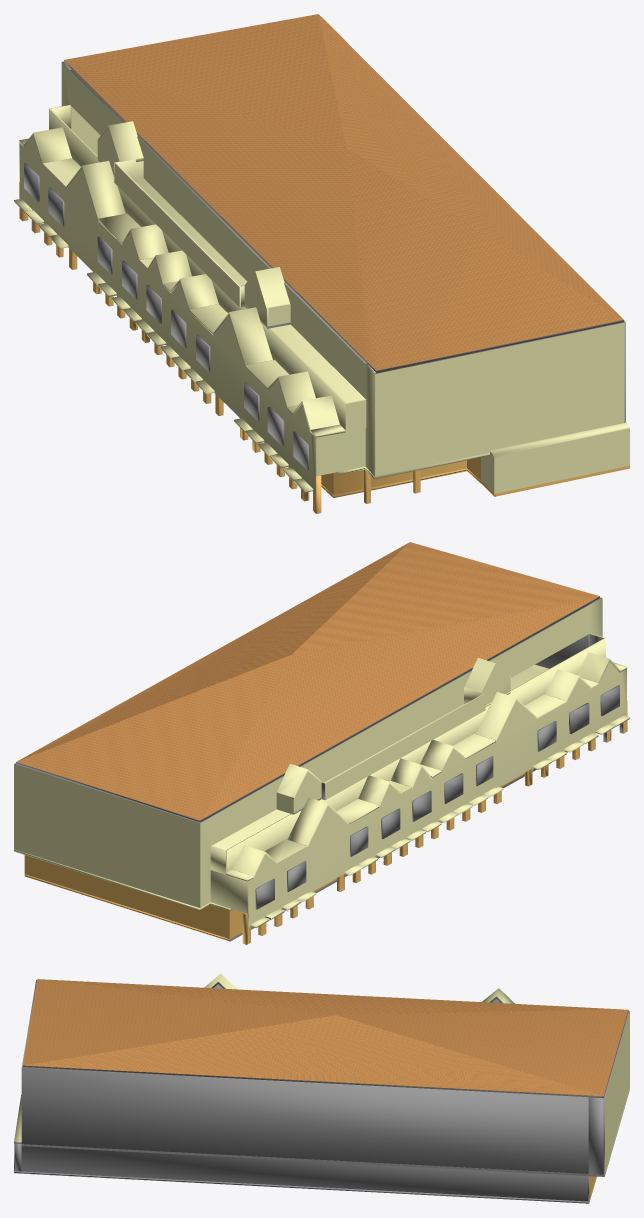
Rendered from mallmalioboro.glb.
3 renders of one model, top to bottom at view 1: azimuth 30°, elevation 25°; view 2: azimuth 150°, elevation 25°; view 3: azimuth 270°, elevation 25°, orthographic. The views are drawn at different scales.
Visible parts, largest first — view 1: Mesh25 Generic_Roof___300mm175_1 Group1 Model, Mesh119 Generic___200mm37_1 Group1 Model, Mesh27 Generic_Roof___300mm175_1 Group1 Model, Mesh169 Generic___200mm12_1 Group1 Model, Mesh75 Generic___200mm42_1 Group1 Model, Mesh47 Generic___200mm2_1 Group1 Model, Mesh110 Generic___200mm35_1 Group1 Model, Mesh104 Generic_Floor___400mm41_1 Group1 Model, Mesh109 Generic___200mm44_1 Group1 Model, Mesh143 Generic___200mm13_1 Group1 Model, Mesh52 Generic_Roof___300mm20_1 Group1 Model, Mesh45 Generic_Roof___300mm18_1 Group1 Model (+13 smaller); view 2: Mesh25 Generic_Roof___300mm175_1 Group1 Model, Mesh113 Generic___200mm8_1 Group1 Model, Mesh169 Generic___200mm12_1 Group1 Model, Mesh75 Generic___200mm42_1 Group1 Model, Mesh27 Generic_Roof___300mm175_1 Group1 Model, Mesh110 Generic___200mm35_1 Group1 Model, Mesh82 Generic___200mm5_1 Group1 Model, Mesh109 Generic___200mm44_1 Group1 Model, Mesh104 Generic_Floor___400mm41_1 Group1 Model, Mesh159 Generic___200mm11_1 Group1 Model, Mesh45 Generic_Roof___300mm18_1 Group1 Model, Mesh52 Generic_Roof___300mm20_1 Group1 Model (+16 smaller); view 3: Mesh102 Generic___200mm6_1 Group1 Model, Mesh25 Generic_Roof___300mm175_1 Group1 Model, Mesh27 Generic_Roof___300mm175_1 Group1 Model, Mesh113 Generic___200mm8_1 Group1 Model, Mesh104 Generic_Floor___400mm41_1 Group1 Model, Mesh21 Generic_Floor___400mm1 Group1 Model, Mesh4 Generic___200mm14_1 Group1 Model.
Boxes of the visible parts, left/top/right/bottom form: Mesh25 Generic_Roof___300mm175_1 Group1 Model: left=64, top=14, right=623, bottom=372; Mesh119 Generic___200mm37_1 Group1 Model: left=375, top=322, right=624, bottom=476; Mesh27 Generic_Roof___300mm175_1 Group1 Model: left=319, top=15, right=623, bottom=319; Mesh169 Generic___200mm12_1 Group1 Model: left=20, top=136, right=316, bottom=492; Mesh75 Generic___200mm42_1 Group1 Model: left=70, top=70, right=366, bottom=398; Mesh47 Generic___200mm2_1 Group1 Model: left=493, top=429, right=629, bottom=493; Mesh110 Generic___200mm35_1 Group1 Model: left=49, top=109, right=346, bottom=432; Mesh104 Generic_Floor___400mm41_1 Group1 Model: left=134, top=178, right=489, bottom=479; Mesh109 Generic___200mm44_1 Group1 Model: left=115, top=163, right=240, bottom=307; Mesh143 Generic___200mm13_1 Group1 Model: left=317, top=428, right=365, bottom=475; Mesh52 Generic_Roof___300mm20_1 Group1 Model: left=213, top=307, right=272, bottom=367; Mesh45 Generic_Roof___300mm18_1 Group1 Model: left=66, top=161, right=125, bottom=221; Mesh25 Generic_Roof___300mm175_1 Group1 Model: left=16, top=542, right=599, bottom=821; Mesh113 Generic___200mm8_1 Group1 Model: left=14, top=763, right=200, bottom=908; Mesh169 Generic___200mm12_1 Group1 Model: left=248, top=662, right=626, bottom=927; Mesh75 Generic___200mm42_1 Group1 Model: left=210, top=605, right=588, bottom=845; Mesh27 Generic_Roof___300mm175_1 Group1 Model: left=17, top=542, right=409, bottom=761; Mesh110 Generic___200mm35_1 Group1 Model: left=226, top=638, right=605, bottom=872; Mesh82 Generic___200mm5_1 Group1 Model: left=24, top=855, right=229, bottom=938; Mesh109 Generic___200mm44_1 Group1 Model: left=325, top=693, right=485, bottom=799; Mesh104 Generic_Floor___400mm41_1 Group1 Model: left=14, top=664, right=549, bottom=910; Mesh159 Generic___200mm11_1 Group1 Model: left=210, top=870, right=248, bottom=913; Mesh45 Generic_Roof___300mm18_1 Group1 Model: left=287, top=797, right=348, bottom=847; Mesh52 Generic_Roof___300mm20_1 Group1 Model: left=476, top=692, right=536, bottom=741; Mesh102 Generic___200mm6_1 Group1 Model: left=21, top=1067, right=588, bottom=1201; Mesh25 Generic_Roof___300mm175_1 Group1 Model: left=23, top=979, right=628, bottom=1097; Mesh27 Generic_Roof___300mm175_1 Group1 Model: left=24, top=1015, right=602, bottom=1096; Mesh113 Generic___200mm8_1 Group1 Model: left=603, top=1011, right=629, bottom=1174; Mesh104 Generic_Floor___400mm41_1 Group1 Model: left=21, top=1087, right=629, bottom=1176; Mesh21 Generic_Floor___400mm1 Group1 Model: left=14, top=1171, right=589, bottom=1203; Mesh4 Generic___200mm14_1 Group1 Model: left=588, top=1097, right=603, bottom=1174.
Size of the model in its own units: 55.67 by 25.23 by 105.
4 materials, 1 textured.
